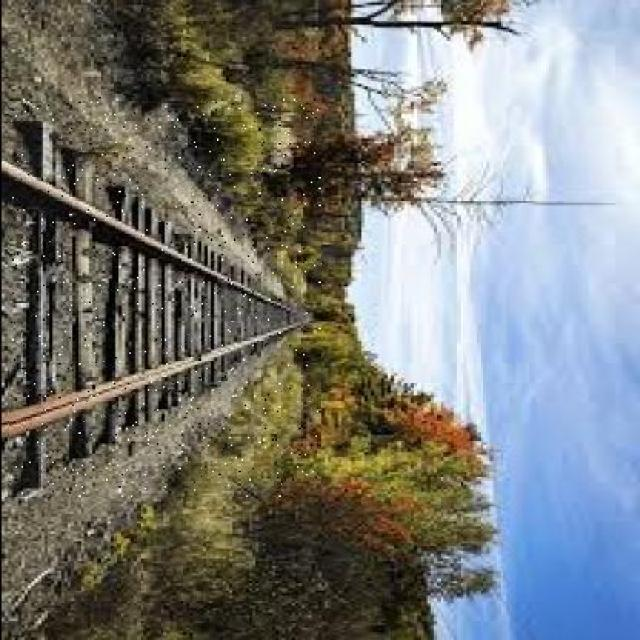rail: (9, 96, 320, 496)
